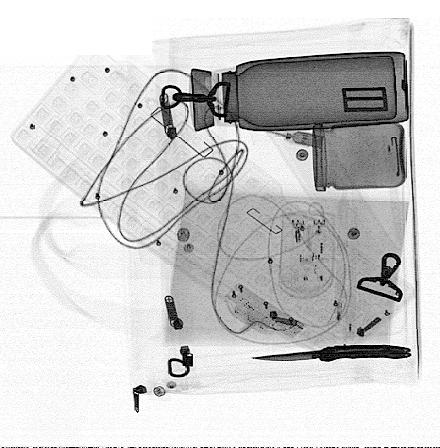Knife: (248, 344, 413, 365)
